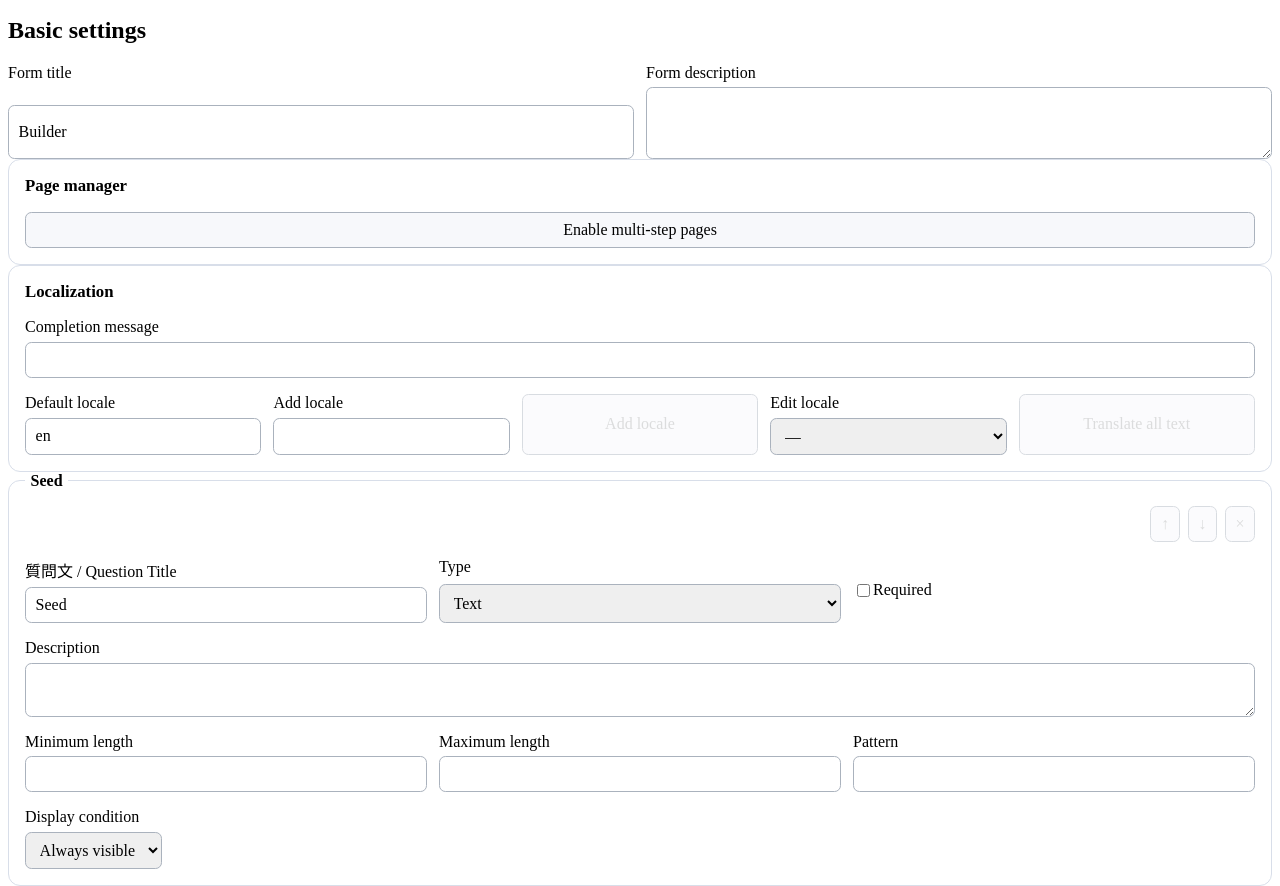
Test: FormBuilder v2.1.1 › honors overwrite all for automatic translation
Select "ja" in the dropdown labelled "Edit locale" at (888, 436), box [770,418,1007,455]
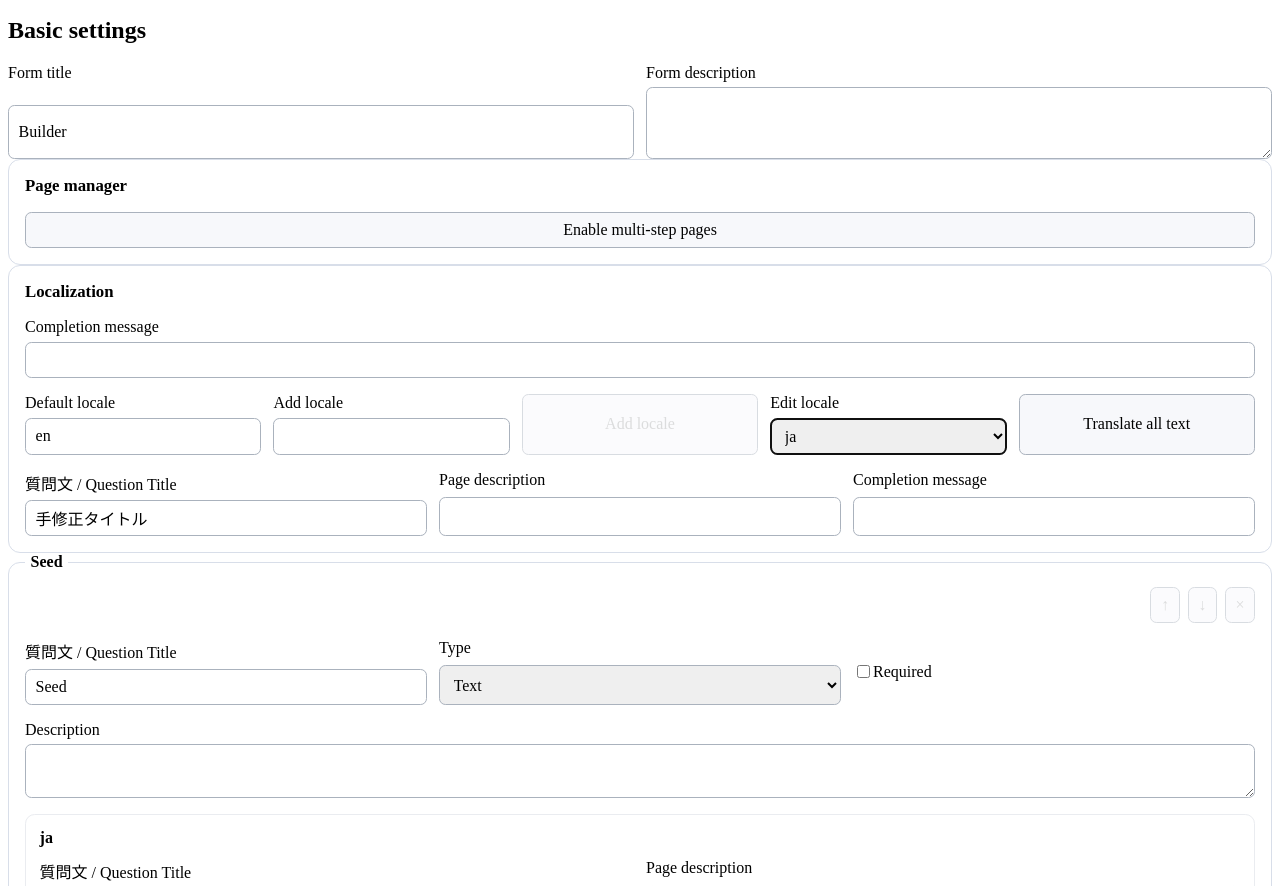
Click the button "Translate all text" at (1137, 424), box [1019,394,1255,455]
(page scrolled)
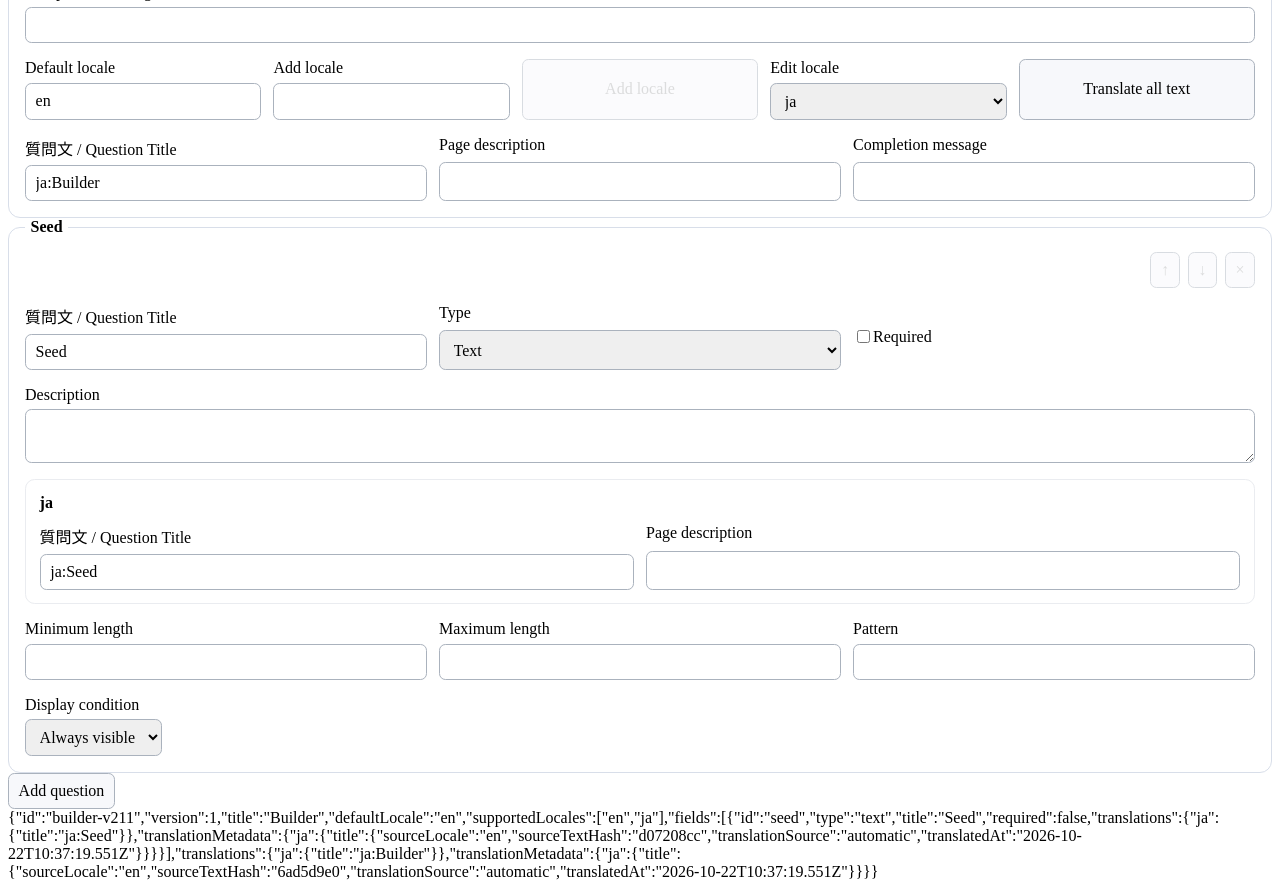
expect the text with test id "schema-state" does not show "手修正タイトル": met, box [8,809,1219,880]
expect the text with test id "schema-state" shows "ja:Builder": met, box [8,809,1219,880]
